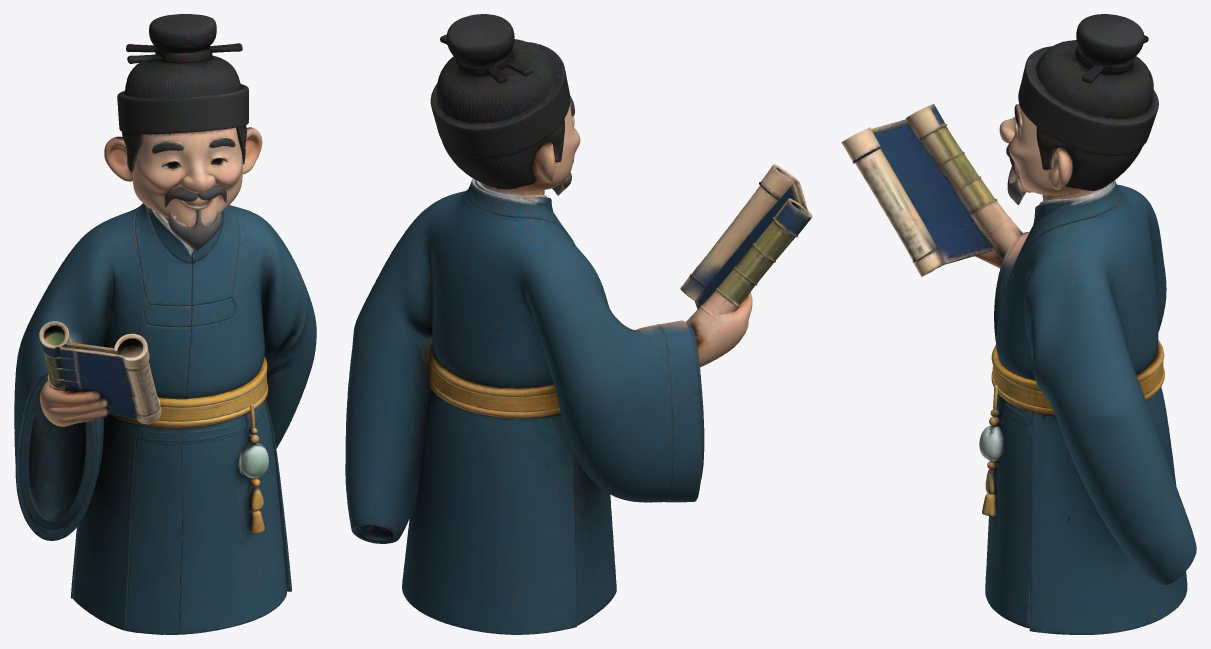
Rendered from guide.glb.
3 renders of one model, left to right at view 1: azimuth 30°, elevation 25°; view 2: azimuth 150°, elevation 25°; view 3: azimuth 270°, elevation 25°, orthographic. The views are drawn at different scales.
Parts seen in each view (by area): view 1: material; view 2: material; view 3: material.
Boxes of the visible parts, <box> form: material: <box>14,14,316,634</box>; material: <box>345,14,812,634</box>; material: <box>841,14,1196,634</box>.
Size of the model in its own units: 0.6912 by 1.04 by 0.5836.
Materials: 1 (1 with a texture image).
